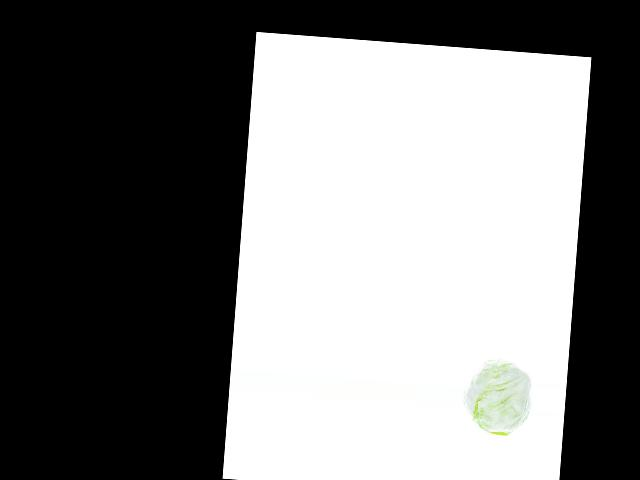lettuce: (462, 357, 530, 435)
